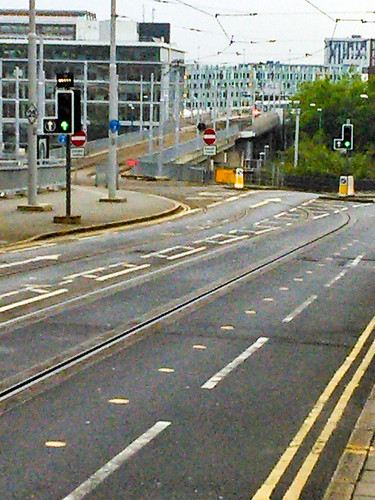building: (1, 17, 185, 147), (181, 61, 345, 109)
street: (1, 200, 371, 500)
